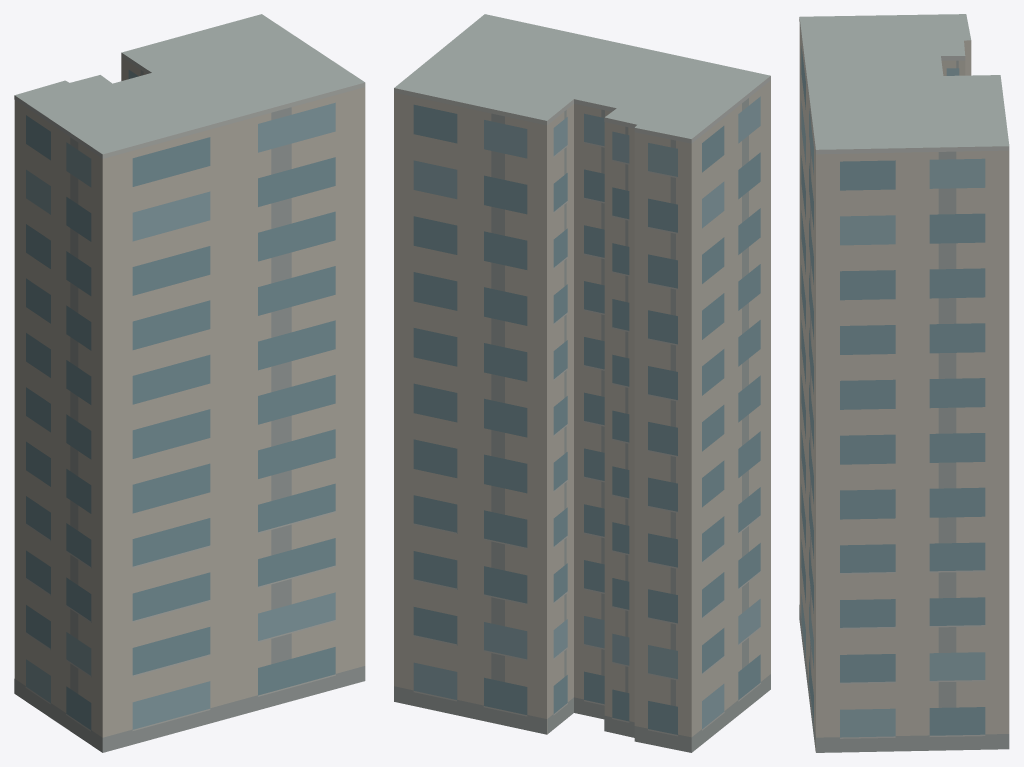
The model's file is survey-upis-32740234.glb.
3 renders of one model, left to right at view 1: azimuth 30°, elevation 25°; view 2: azimuth 150°, elevation 25°; view 3: azimuth 270°, elevation 25°, orthographic. The views are drawn at different scales.
Parts seen in each view (by area): view 1: survey-upis-32740234.tmp; view 2: survey-upis-32740234.tmp; view 3: survey-upis-32740234.tmp.
Part boxes in pixels (<box>): survey-upis-32740234.tmp: <box>14,14,365,752</box>; survey-upis-32740234.tmp: <box>394,14,770,752</box>; survey-upis-32740234.tmp: <box>799,14,1009,752</box>.
Bounding box in the file's own units: 15.9 × 32.9 × 10.39.
